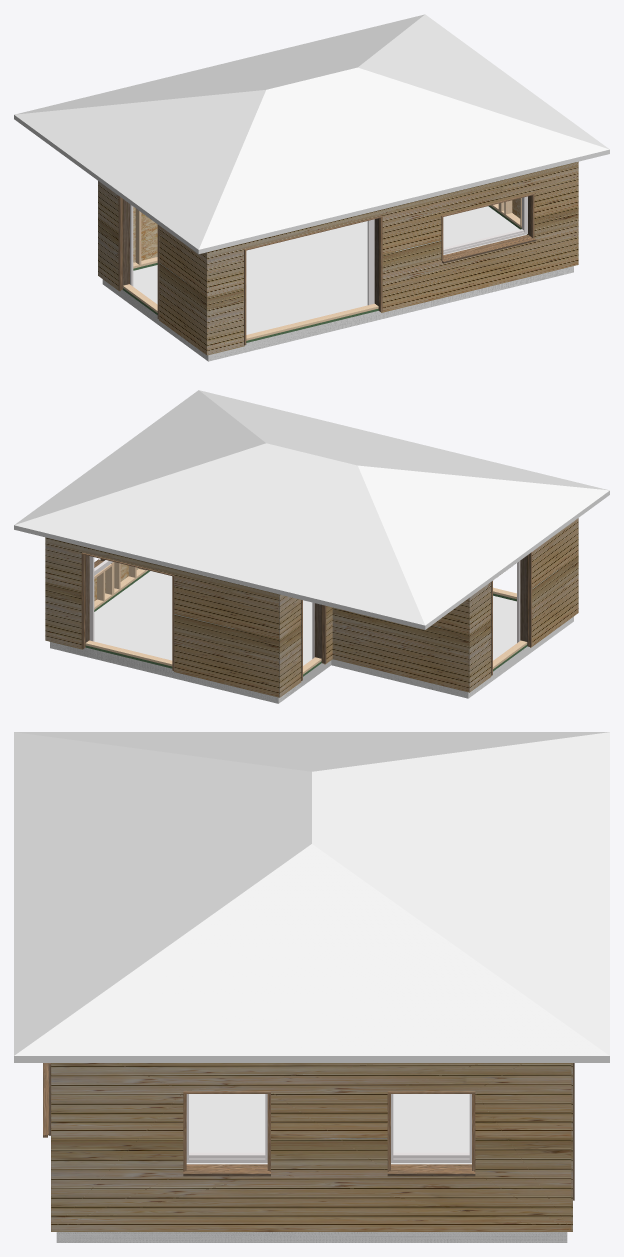
File: ossat.obj
3 renders of one model, top to bottom at view 1: azimuth 30°, elevation 25°; view 2: azimuth 150°, elevation 25°; view 3: azimuth 270°, elevation 25°, orthographic. The views are drawn at different scales.
Parts seen in each view (by area): view 1: Mesh2 Group2 Model, Mesh195 G_5_4 Model, Mesh1 Group1 Model, Mesh20 G_5_1 Model, Mesh159 dalle_1_5 Model, Mesh134 G_3_8 Model, Mesh173 menuiserie_1_1 Model, Mesh15 voile_travaillant_copy_001 Model, Mesh142 porte_1_4 Model, Mesh46 precadre_16_1 Model, Mesh174 precadre_5_1 Model; view 2: Mesh2 Group2 Model, Mesh110 G_5_3 Model, Mesh1 Group1 Model, Mesh7 G_5 Model, Mesh20 G_5_1 Model, Mesh81 G_5_2 Model, Mesh112 dalle_1_4 Model, Mesh48 precadre_15_1 Model, Mesh91 G_3_6 Model, Mesh92 porte_1_3 Model, Mesh69 precadre_15_2 Model, Mesh122 precadre_16_3 Model; view 3: Mesh2 Group2 Model, Mesh224 G_5_5 Model, Mesh1 Group1 Model, Mesh201 dalle_1_6 Model, Mesh234 menuiserie_1_3 Model, Mesh213 menuiserie_1_2 Model, Mesh260 precadre_5_3 Model, Mesh241 precadre_5_2 Model.
Part boxes in pixels (x1,y1,x2,y2): Mesh2 Group2 Model: [14, 14, 609, 254]; Mesh195 G_5_4 Model: [206, 162, 578, 355]; Mesh1 Group1 Model: [102, 206, 573, 361]; Mesh20 G_5_1 Model: [98, 181, 206, 354]; Mesh159 dalle_1_5 Model: [208, 267, 573, 360]; Mesh134 G_3_8 Model: [246, 303, 378, 340]; Mesh173 menuiserie_1_1 Model: [443, 196, 527, 254]; Mesh15 voile_travaillant_copy_001 Model: [141, 212, 157, 260]; Mesh142 porte_1_4 Model: [367, 219, 374, 305]; Mesh46 precadre_16_1 Model: [122, 199, 129, 289]; Mesh174 precadre_5_1 Model: [442, 236, 536, 263]; Mesh2 Group2 Model: [14, 390, 609, 629]; Mesh110 G_5_3 Model: [45, 537, 279, 697]; Mesh1 Group1 Model: [50, 571, 573, 703]; Mesh7 G_5 Model: [332, 598, 469, 692]; Mesh20 G_5_1 Model: [468, 518, 578, 692]; Mesh81 G_5_2 Model: [279, 594, 332, 697]; Mesh112 dalle_1_4 Model: [50, 643, 278, 703]; Mesh48 precadre_15_1 Model: [520, 555, 527, 646]; Mesh91 G_3_6 Model: [85, 640, 172, 666]; Mesh92 porte_1_3 Model: [89, 556, 94, 641]; Mesh69 precadre_15_2 Model: [314, 603, 322, 662]; Mesh122 precadre_16_3 Model: [85, 555, 89, 647]; Mesh2 Group2 Model: [14, 732, 609, 1062]; Mesh224 G_5_5 Model: [51, 1063, 572, 1231]; Mesh1 Group1 Model: [56, 1094, 567, 1242]; Mesh201 dalle_1_6 Model: [57, 1232, 566, 1242]; Mesh234 menuiserie_1_3 Model: [186, 1094, 267, 1162]; Mesh213 menuiserie_1_2 Model: [391, 1094, 471, 1162]; Mesh260 precadre_5_3 Model: [183, 1168, 270, 1176]; Mesh241 precadre_5_2 Model: [387, 1168, 475, 1176].
Size of the model in its own units: 9000 by 3773 by 7000.
